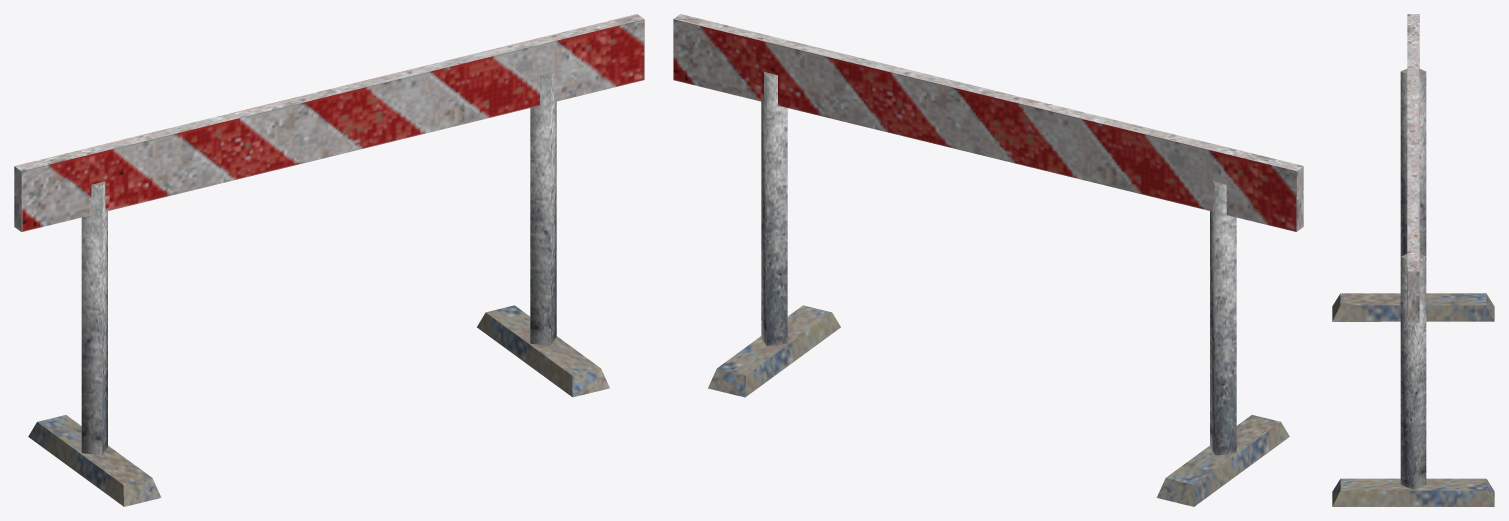
Rendered from Sign.fbx.
The picture shows the model from 3 angles, left to right: view 1: azimuth 30°, elevation 25°; view 2: azimuth 150°, elevation 25°; view 3: azimuth 270°, elevation 25°; orthographic projection. The views are drawn at different scales.
Parts seen in each view (by area): view 1: object_28; view 2: object_28; view 3: object_28.
Boxes of the visible parts, x1,y1,x2,y2 form: object_28: (14,14,644,506); object_28: (673,14,1303,506); object_28: (1332,14,1494,506).
Size of the model in its own units: 195 by 94.9 by 52.04.
